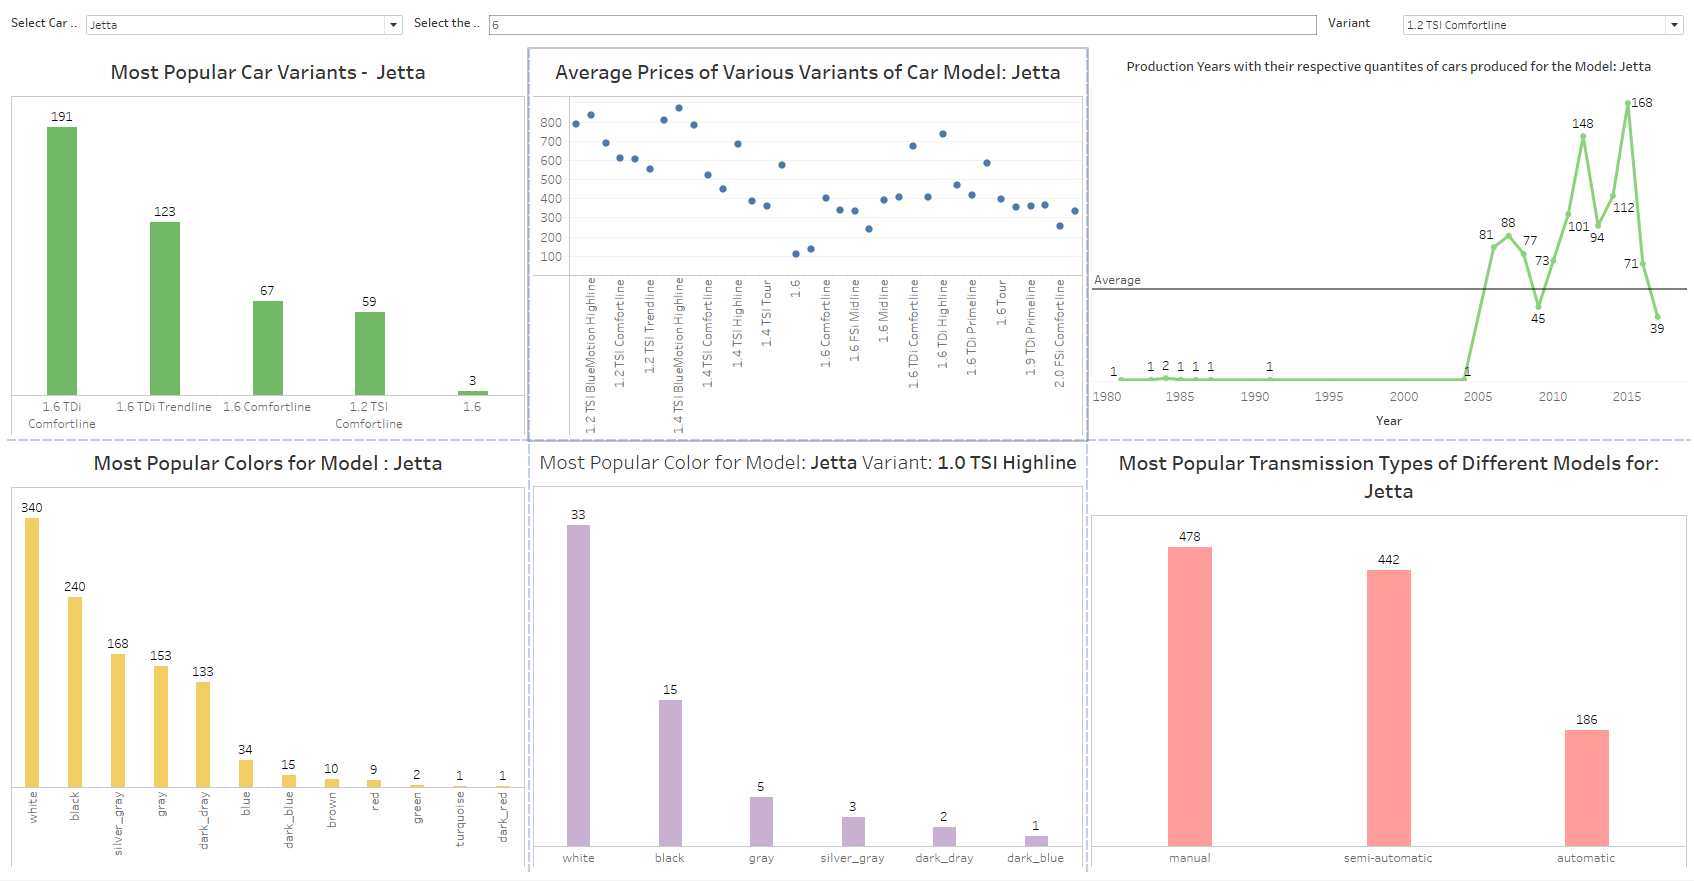

This screenshot's page, from the dashboard's own definition file:
{"tool":"tableau","page":{"name":"Dashboard 1","canvas":[1700,880],"ordinal":0},"visuals":[{"type":"parameter","param":"[Parameters].[Parameter 2]","box":[8,8,403,41]},{"type":"parameter","param":"[Parameters].[Parameter 4]","box":[411,8,914,41]},{"type":"filter","title":"Most Popular Colors for Each Car Model Variant","param":"[federated.01cf0cm1d8unv31a5b50j0ibfsof].[none:variant:nk]","box":[1325,8,367,41]},{"type":"worksheet","title":"Most Popular Variants By Car Models","mark":"Bar","rows":["online_car-sales.csv_74739E8E8975451BBF484375807F37F0"],"cols":["model","variant"],"box":[8,49,522,390.9]},{"type":"worksheet","title":"Average Prices of Various Variants of Car Model","mark":"Circle","rows":["price - Split 1"],"cols":["model","variant"],"box":[530,49,558,390.9]},{"type":"worksheet","title":"Production of Different Car Models Over the Years","mark":"Automatic","rows":["online_car-sales.csv_74739E8E8975451BBF484375807F37F0"],"cols":["year"],"box":[1088,49,604,390.9]},{"type":"worksheet","title":"Most Popular Colors for Model","mark":"Automatic","rows":["online_car-sales.csv_74739E8E8975451BBF484375807F37F0"],"cols":["model","color"],"box":[8,440,522,432]},{"type":"worksheet","title":"Most Popular Colors for Each Car Model Variant","mark":"Automatic","rows":["online_car-sales.csv_74739E8E8975451BBF484375807F37F0"],"cols":["model","variant","color"],"box":[530,440,558,432]},{"type":"worksheet","title":"Most Popular Transmission Types of Different Models","mark":"Automatic","rows":["online_car-sales.csv_74739E8E8975451BBF484375807F37F0"],"cols":["model","transmission"],"box":[1088,440,604,432]}]}

Visuals, with their boxes in screenshot pixels (x1, y1, x2, y2), scaled from the page's 1700x880 canvas onto the 1694x881 screenshot:
parameter: bbox(8, 8, 410, 49)
parameter: bbox(410, 8, 1320, 49)
"Most Popular Colors for Each Car Model Variant" filter: bbox(1320, 8, 1686, 49)
"Most Popular Variants By Car Models" worksheet (Bar marks): bbox(8, 49, 528, 440)
"Average Prices of Various Variants of Car Model" worksheet (Circle marks): bbox(528, 49, 1084, 440)
"Production of Different Car Models Over the Years" worksheet: bbox(1084, 49, 1686, 440)
"Most Popular Colors for Model" worksheet: bbox(8, 441, 528, 873)
"Most Popular Colors for Each Car Model Variant" worksheet: bbox(528, 441, 1084, 873)
"Most Popular Transmission Types of Different Models" worksheet: bbox(1084, 441, 1686, 873)
